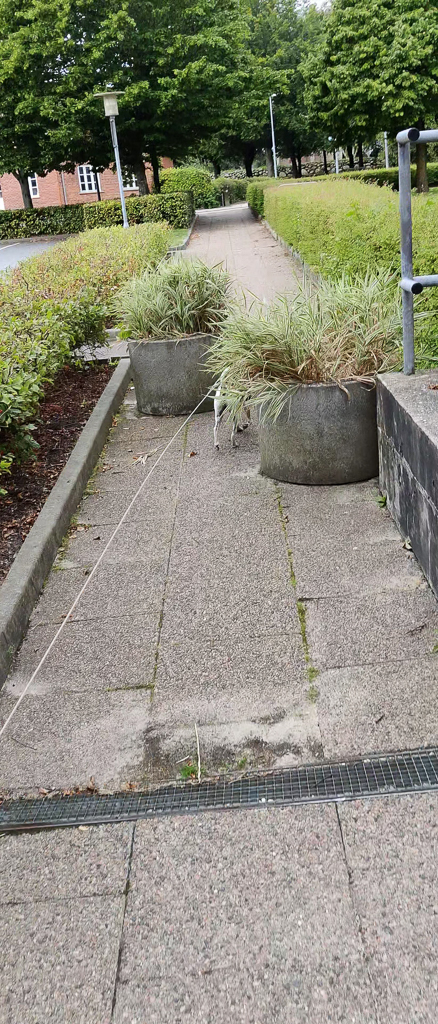Dog: (203, 362, 258, 458)
